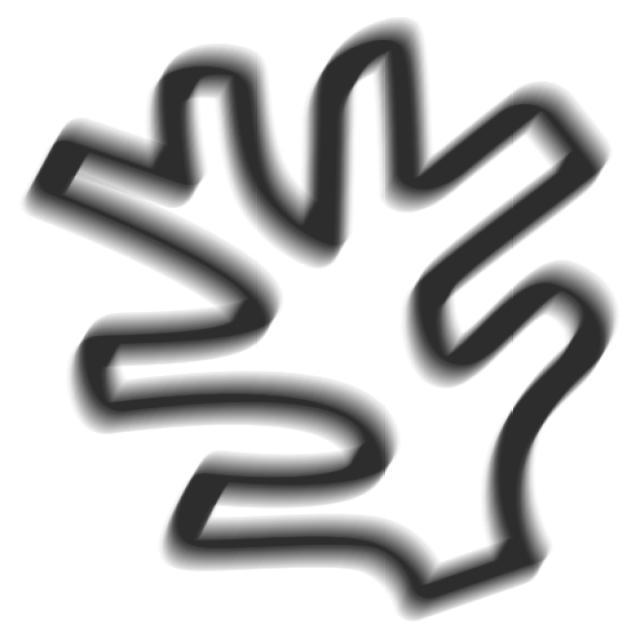coral: (18, 19, 628, 633)
